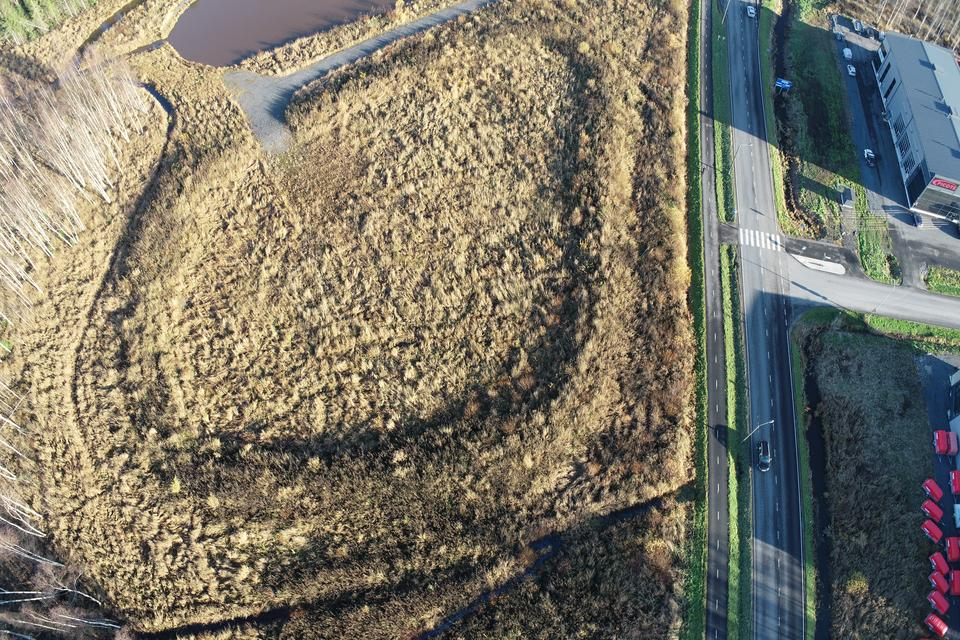intersection: (683, 225, 871, 339)
